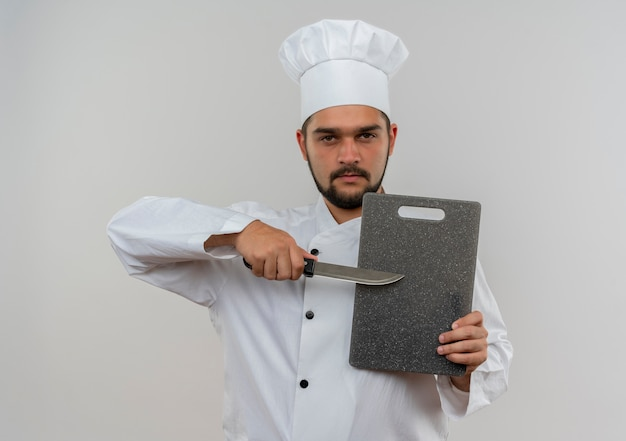knife: (302, 256, 407, 286)
